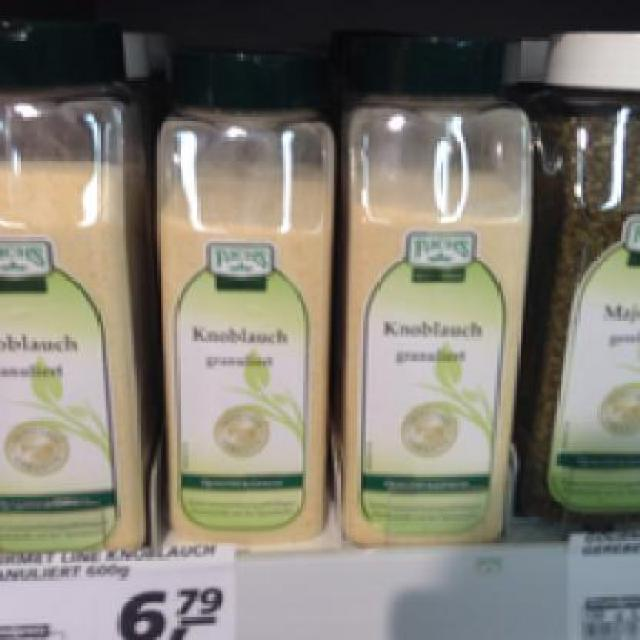Spices: (333, 31, 530, 544), (148, 26, 332, 543), (0, 11, 146, 552), (517, 28, 637, 514)
